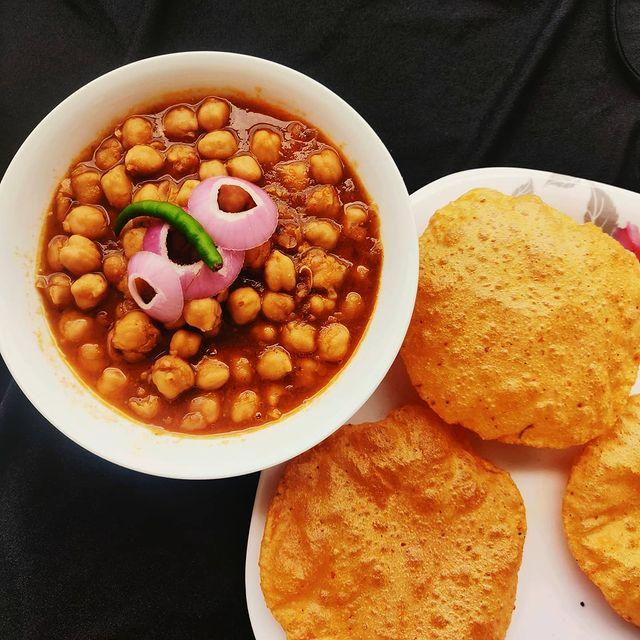Chole: (41, 97, 358, 410)
